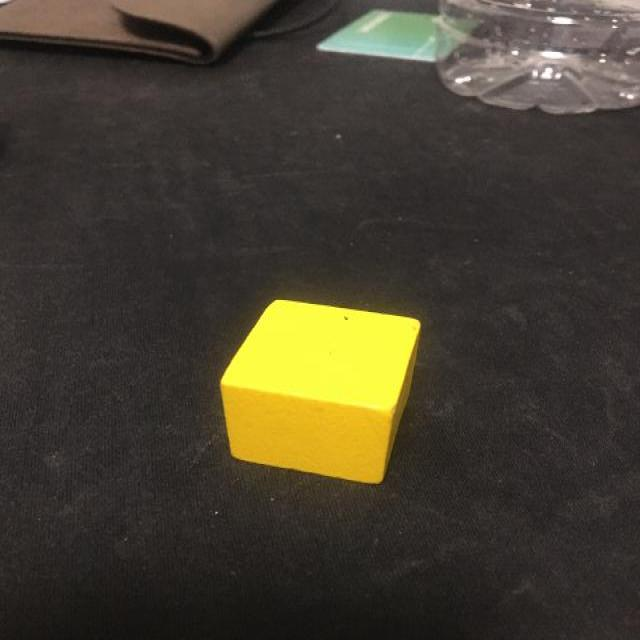yellow: (222, 296, 422, 484)
